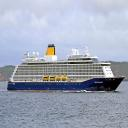cruises: (8, 45, 126, 95)
